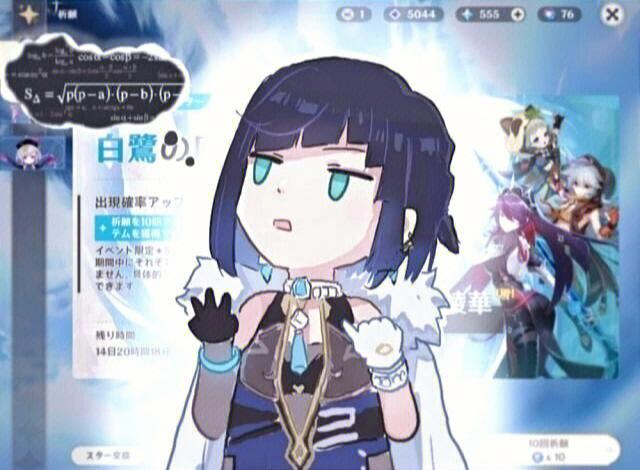夜兰: (182, 58, 457, 470)
